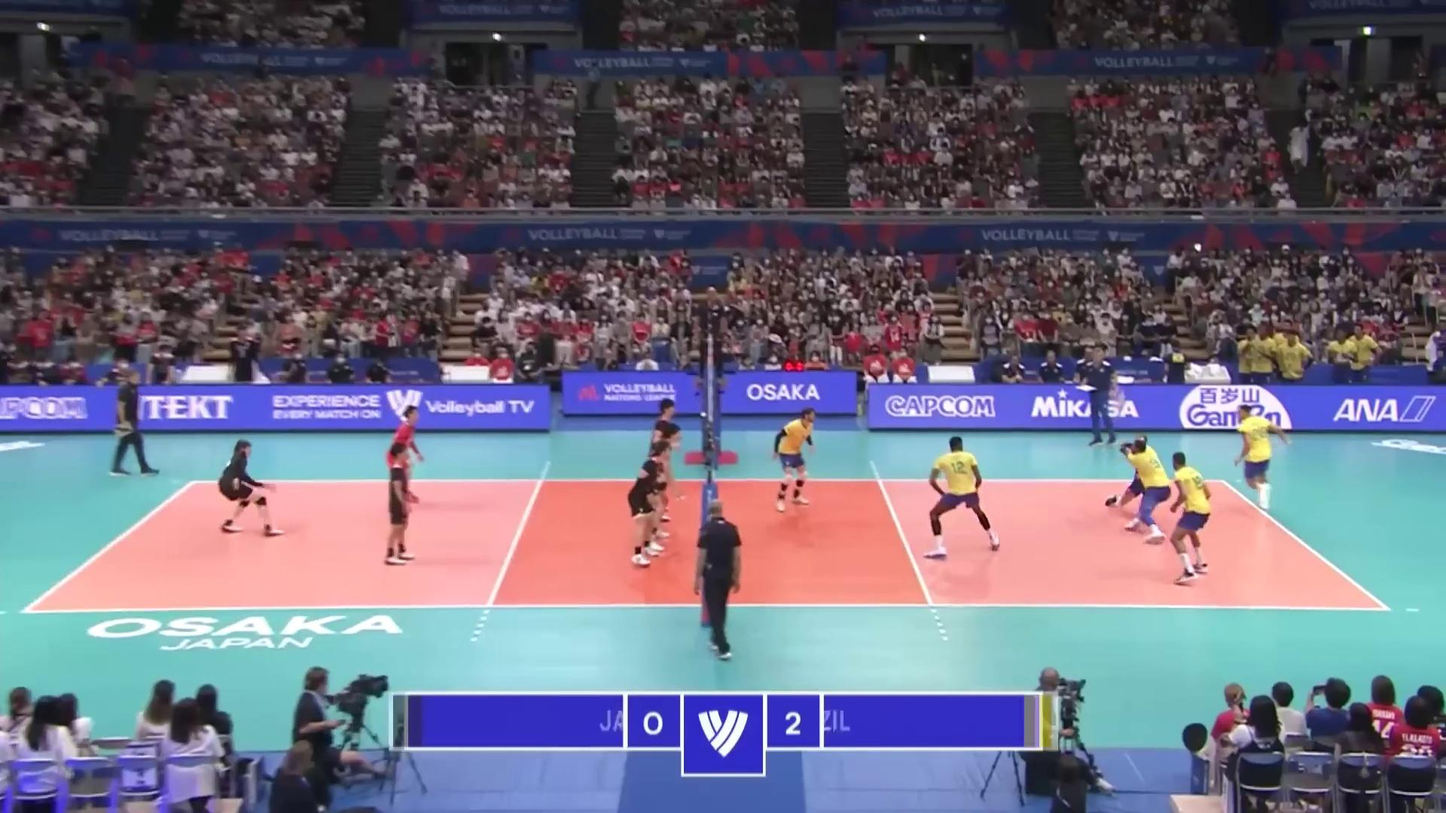player: (923, 435, 1003, 557), (1162, 452, 1218, 585), (215, 440, 279, 538), (1118, 436, 1172, 542), (626, 442, 672, 566), (1232, 404, 1281, 511), (642, 425, 681, 551), (383, 406, 428, 508), (773, 406, 817, 510), (1104, 437, 1164, 513), (383, 444, 416, 564), (648, 398, 680, 520)
refree: (694, 498, 746, 662), (695, 287, 727, 388)
